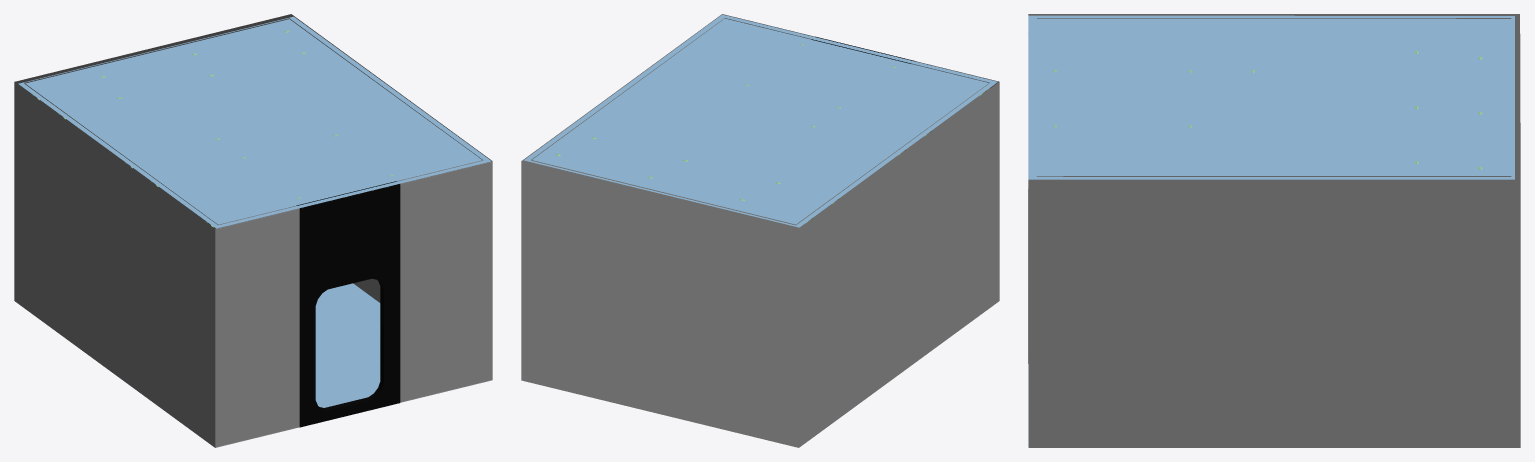
File: tallerroom.FBX
The picture shows the model from 3 angles, left to right: view 1: azimuth 30°, elevation 25°; view 2: azimuth 150°, elevation 25°; view 3: azimuth 270°, elevation 25°; orthographic projection. The views are drawn at different scales.
Parts seen in each view (by area): view 1: Object063, Box018, Object061, Box017; view 2: Object063, Box018; view 3: Object063, Box018.
Part boxes in pixels (x1,y1,x2,y2): Object063: (14,14,492,447); Box018: (18,16,491,228); Object061: (296,181,400,427); Box017: (230,283,481,443); Object063: (521,14,999,447); Box018: (524,14,997,227); Object063: (1028,14,1520,447); Box018: (1028,15,1514,179).
Size of the model in its own units: 40.75 by 30.78 by 51.17.
